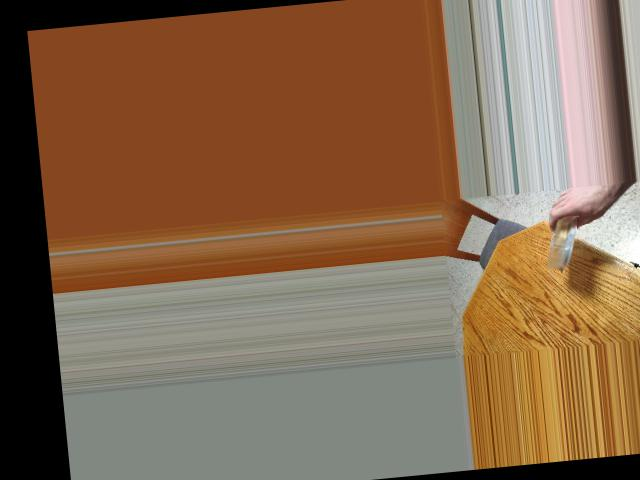cheese: (538, 214, 583, 264)
